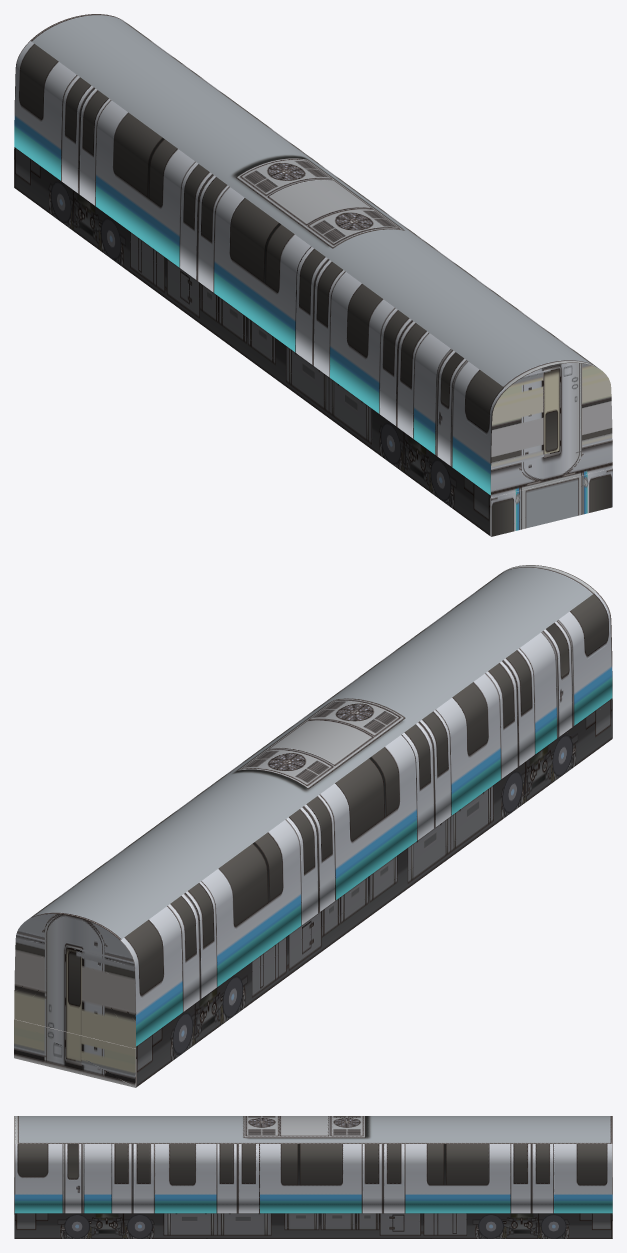
The model's file is car3.glb.
3 views of the same model, one above another, from view 1: azimuth 30°, elevation 25°; view 2: azimuth 150°, elevation 25°; view 3: azimuth 270°, elevation 25° (orthographic). The views are drawn at different scales.
Parts seen in each view (by area): view 1: jr_east_e131_200; view 2: jr_east_e131_200; view 3: jr_east_e131_200.
Boxes of the visible parts, left/top/right/bottom form: jr_east_e131_200: left=14, top=14, right=612, bottom=536; jr_east_e131_200: left=14, top=565, right=612, bottom=1087; jr_east_e131_200: left=14, top=1116, right=612, bottom=1238.
Bounding box in the file's own units: 2.95 × 3.62 × 20.03.
Materials: 7 (6 with a texture image).
